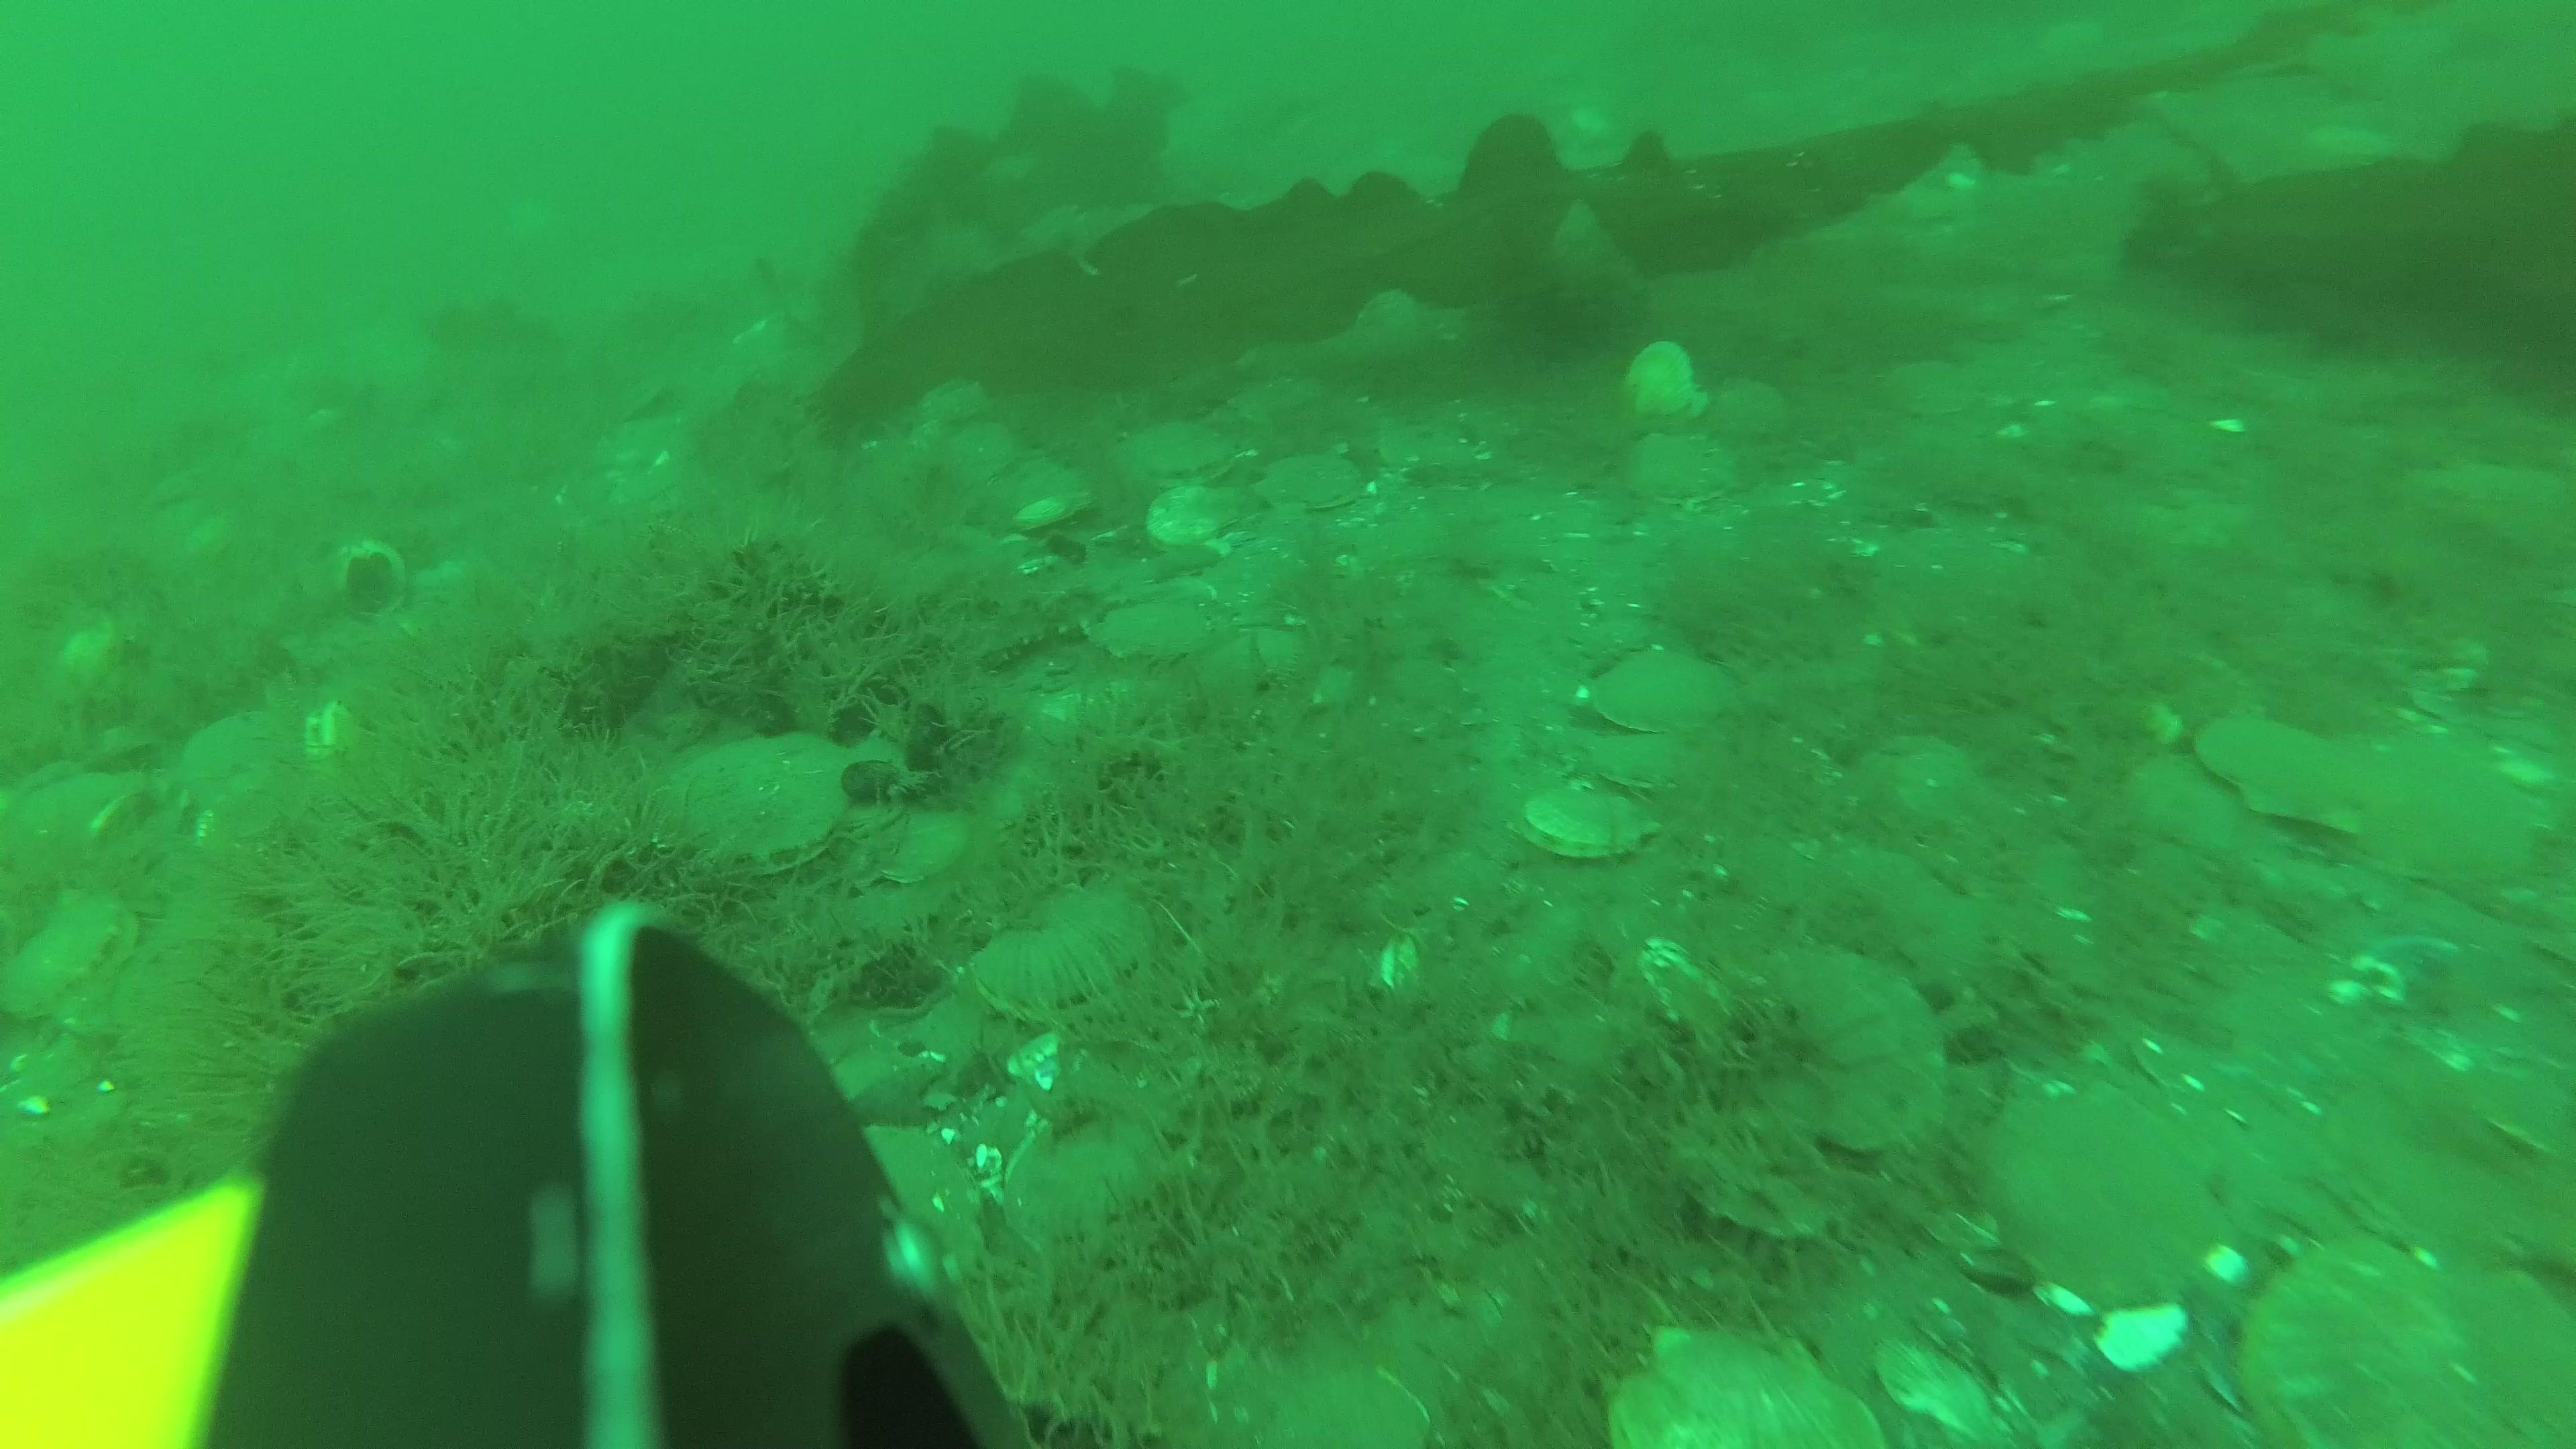holothurian: (948, 600, 1095, 678)
scallop: (2229, 1223, 2574, 1449), (1992, 1072, 2231, 1309), (1727, 947, 1951, 1155), (653, 717, 893, 883), (1606, 1316, 1898, 1449), (2314, 732, 2534, 893), (978, 872, 1161, 1033), (844, 1115, 1000, 1270), (2, 886, 143, 1028), (2201, 711, 2362, 833), (1592, 644, 1739, 752), (2120, 754, 2252, 855), (1856, 729, 1980, 835), (1523, 786, 1665, 872), (1619, 430, 1739, 518), (1260, 453, 1376, 529), (1097, 591, 1210, 665), (872, 803, 966, 892), (1122, 410, 1221, 487), (1155, 471, 1244, 550), (1622, 340, 1698, 416), (1890, 347, 1967, 414)
